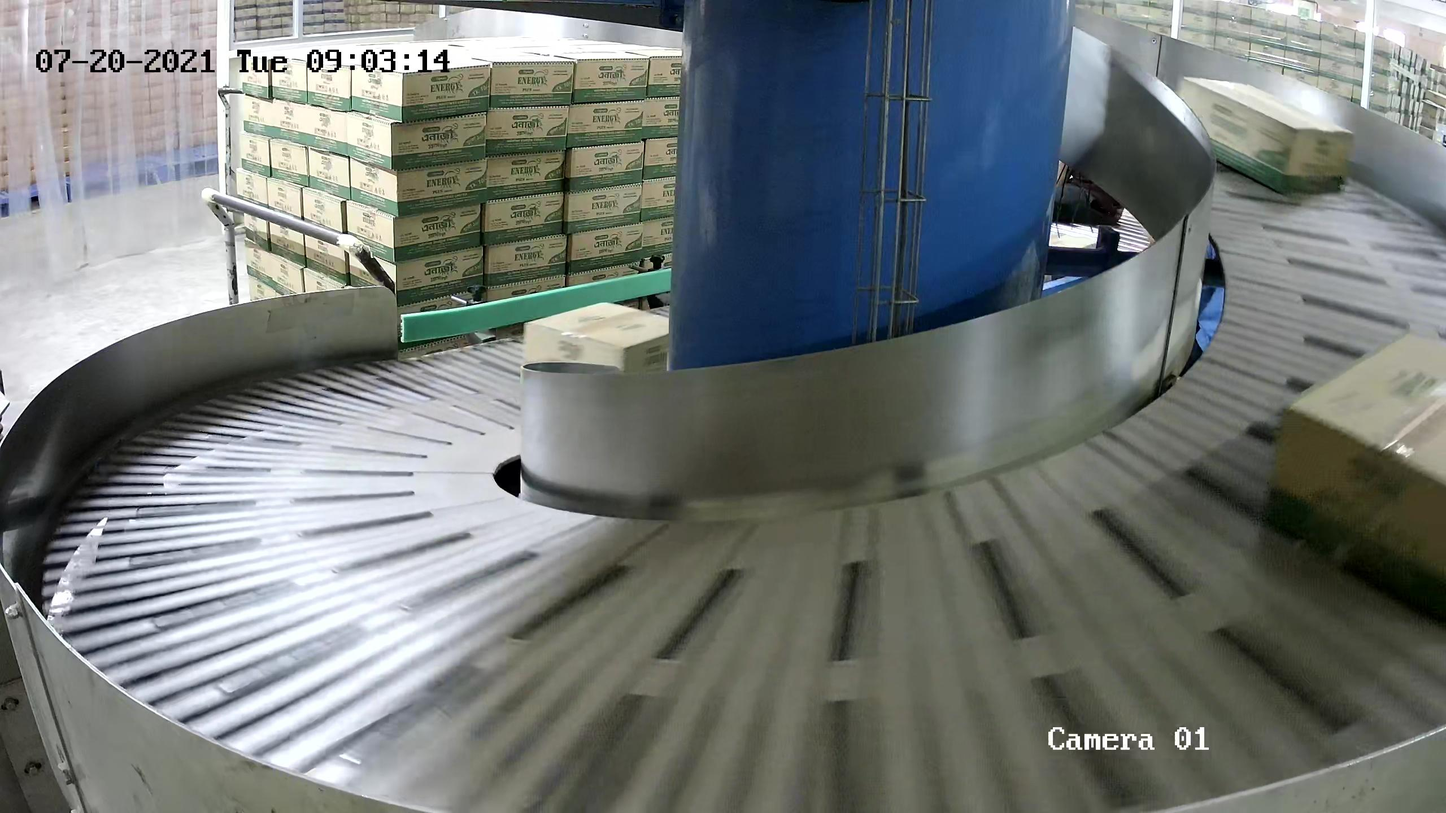Box: (1265, 329, 1446, 629), (1177, 74, 1356, 196), (523, 301, 669, 375)
